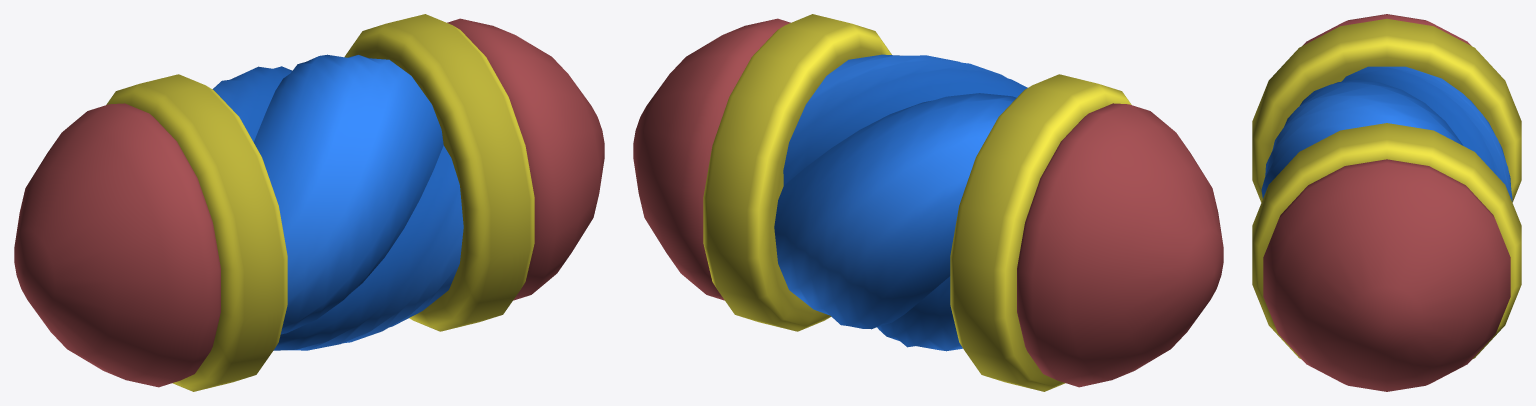
File: Rocket.fbx
3 views of the same model, side by side, from view 1: azimuth 30°, elevation 25°; view 2: azimuth 150°, elevation 25°; view 3: azimuth 270°, elevation 25° (orthographic). The views are drawn at different scales.
Parts seen in each view (by area): view 1: Rocket; view 2: Rocket; view 3: Rocket.
Part boxes in pixels (box(x1,y1,x2,y2)): Rocket: box(14, 14, 604, 391); Rocket: box(633, 14, 1223, 391); Rocket: box(1252, 14, 1521, 391).
Bounding box in the file's own units: 1044 × 498 × 491.
